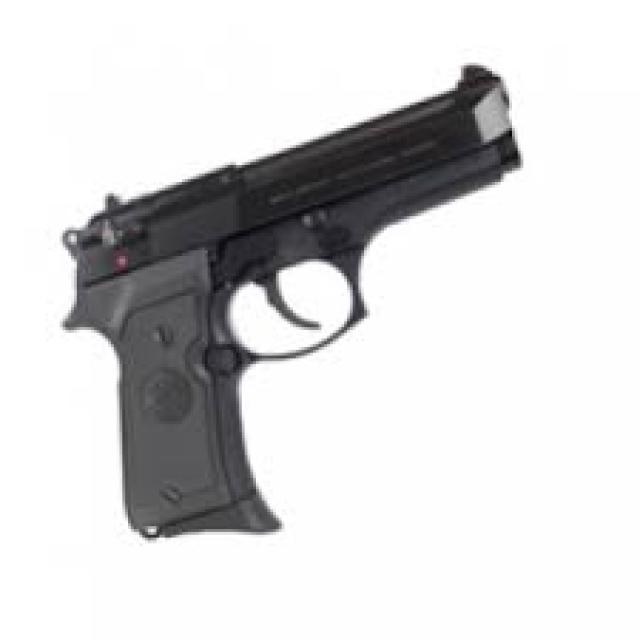pistol: (53, 56, 534, 557)
